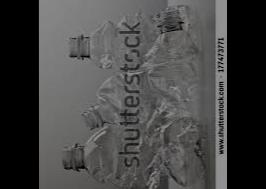Plastic: (139, 0, 214, 188), (62, 2, 207, 79), (57, 117, 210, 188), (78, 68, 215, 130)
